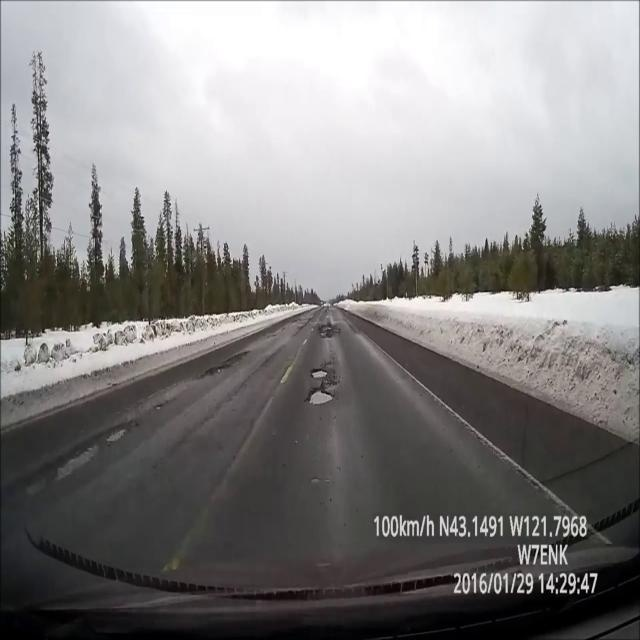pothole: (10, 412, 146, 518), (192, 340, 267, 390), (301, 384, 344, 417), (304, 356, 346, 384), (307, 318, 349, 342)
